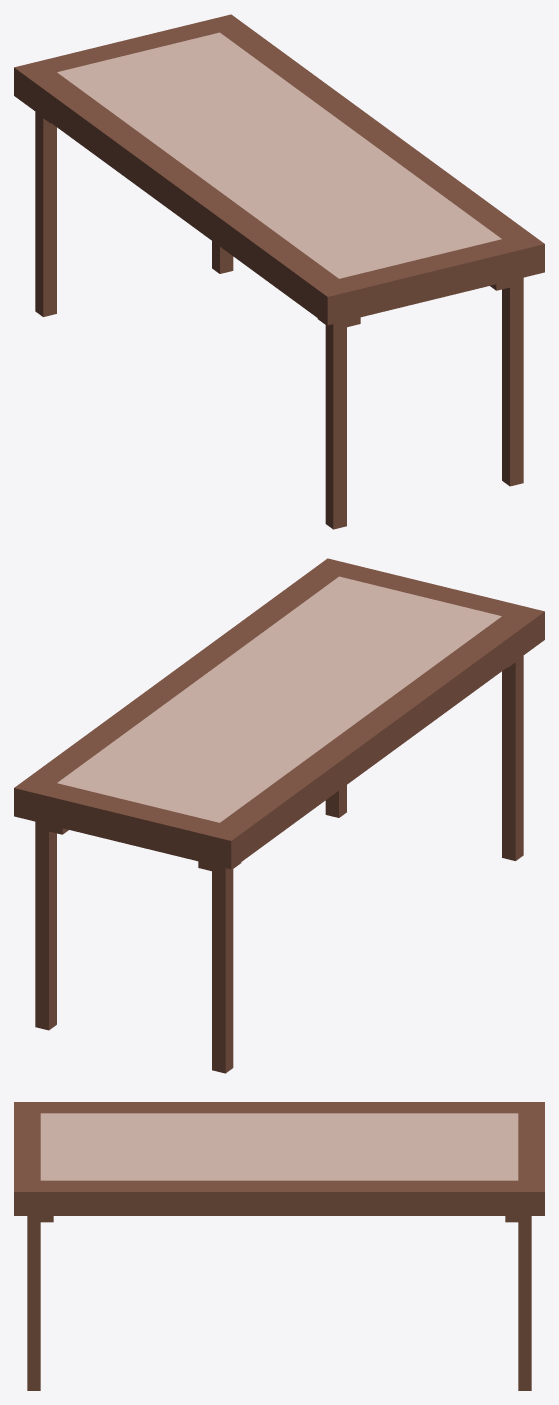
Rendered from Table2.obj.
The picture shows the model from 3 angles, top to bottom: view 1: azimuth 30°, elevation 25°; view 2: azimuth 150°, elevation 25°; view 3: azimuth 270°, elevation 25°; orthographic projection. The views are drawn at different scales.
Size of the model in its own units: 1.6 by 1.7 by 4.
Materials: 1 (1 with a texture image).
